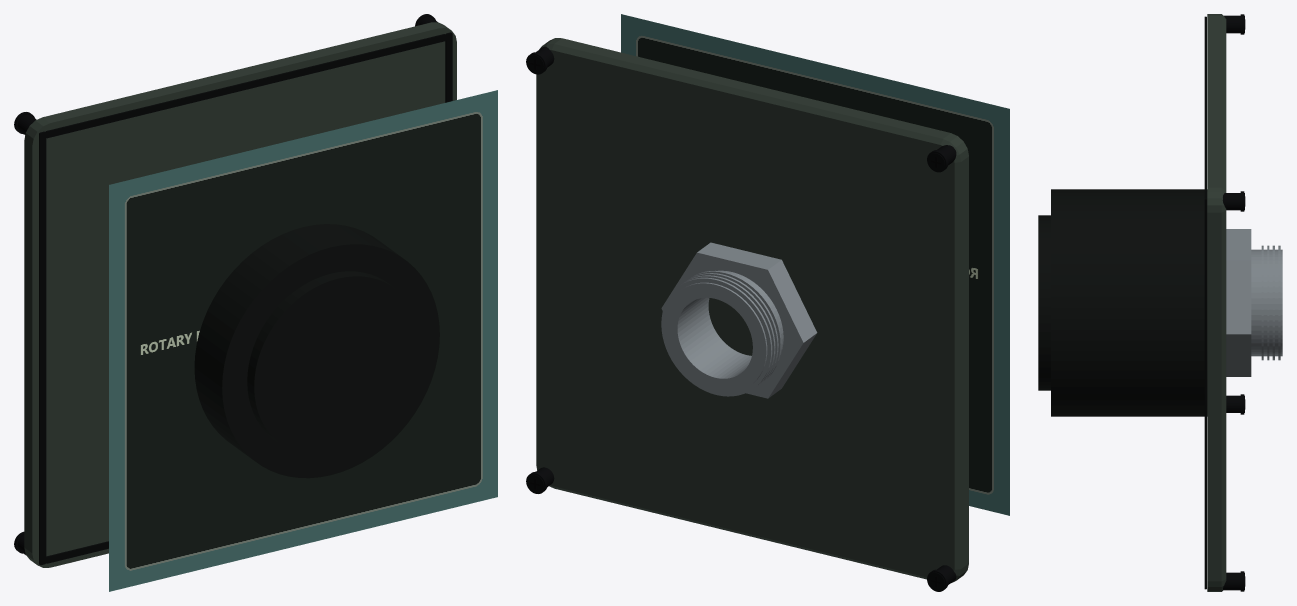
Rendered from MFDStudio.obj.
The picture shows the model from 3 angles, left to right: view 1: azimuth 30°, elevation 25°; view 2: azimuth 150°, elevation 25°; view 3: azimuth 270°, elevation 25°; orthographic projection. The views are drawn at different scales.
Visible parts, largest first — view 1: MFDStudioScreen, MFDStudioBase, MFDStudioActuator, MFDStudioMount, MFDStudioScrews; view 2: MFDStudioBase, MFDStudioScreen, MFDStudioMount, MFDStudioScrews; view 3: MFDStudioMount, MFDStudioBase, MFDStudioActuator, MFDStudioScrews.
Boxes of the visible parts, bbox=[...] form: MFDStudioScreen: bbox=[109, 90, 497, 591]; MFDStudioBase: bbox=[24, 22, 456, 567]; MFDStudioActuator: bbox=[247, 271, 421, 456]; MFDStudioMount: bbox=[194, 224, 439, 478]; MFDStudioScrews: bbox=[14, 14, 437, 554]; MFDStudioBase: bbox=[536, 38, 968, 582]; MFDStudioScreen: bbox=[621, 14, 1009, 515]; MFDStudioMount: bbox=[661, 242, 817, 398]; MFDStudioScrews: bbox=[526, 46, 956, 591]; MFDStudioMount: bbox=[1051, 189, 1282, 416]; MFDStudioBase: bbox=[1204, 14, 1226, 591]; MFDStudioActuator: bbox=[1038, 215, 1050, 390]; MFDStudioScrews: bbox=[1222, 14, 1245, 591].
Size of the model in its own units: 0.071 by 0.071 by 0.039.
8 materials, 1 textured.
